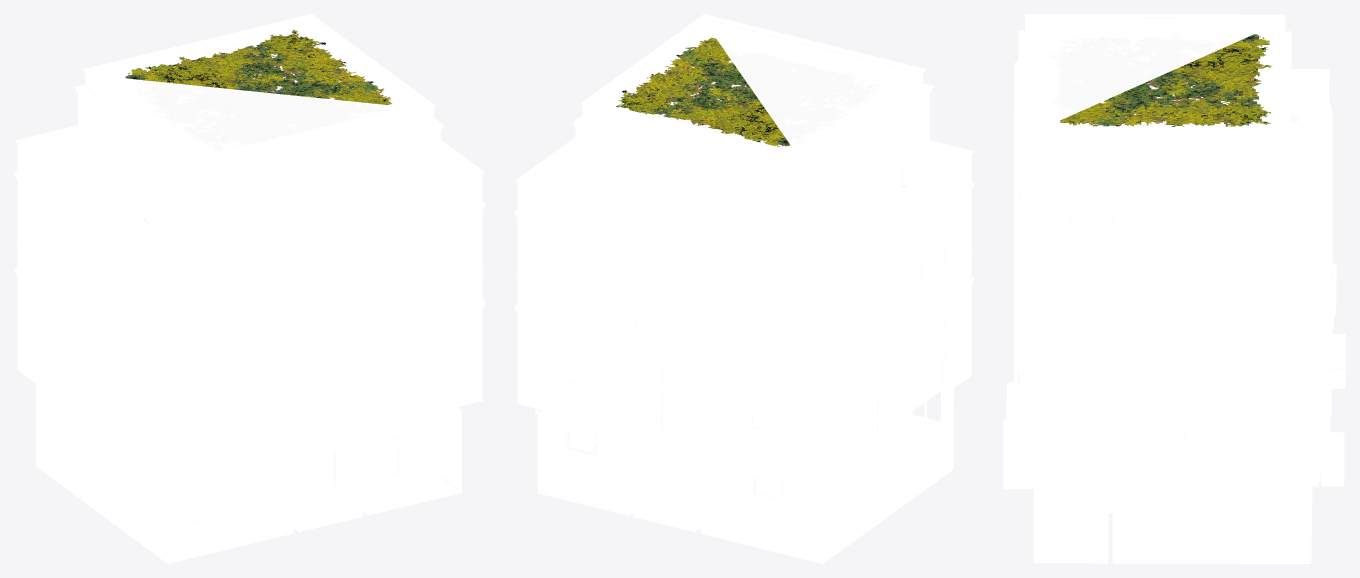
The picture shows the model from 3 angles, left to right: view 1: azimuth 30°, elevation 25°; view 2: azimuth 150°, elevation 25°; view 3: azimuth 270°, elevation 25°; orthographic projection. The views are drawn at different scales.
Visible parts, largest first — view 1: 005_Cube015.001; view 2: 005_Cube015.001; view 3: 005_Cube015.001.
Part boxes in pixels (bbox=[...]): 005_Cube015.001: bbox=[14, 14, 485, 563]; 005_Cube015.001: bbox=[514, 14, 974, 563]; 005_Cube015.001: bbox=[1003, 14, 1345, 563].
Bounding box in the file's own units: 1.54 × 1.83 × 1.34.
Materials: 6 (6 with a texture image).
